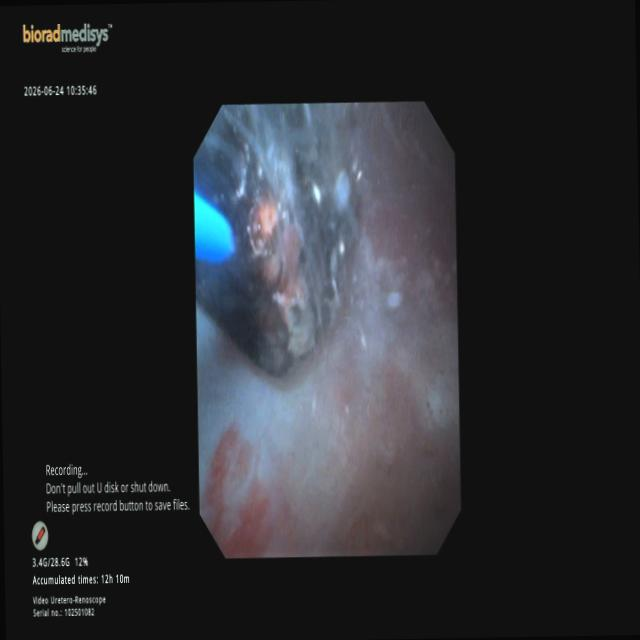stone-new: (193, 103, 360, 374)
